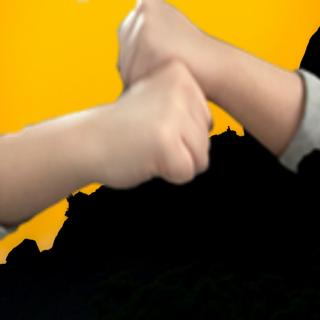CAREFUL: (26, 1, 314, 192)
